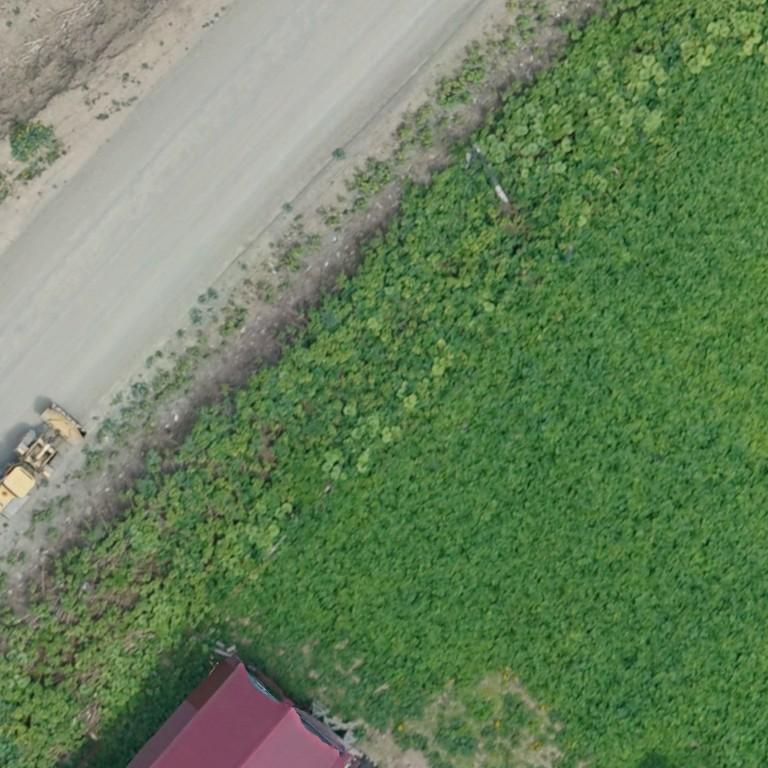hogweed: (248, 60, 767, 767)
